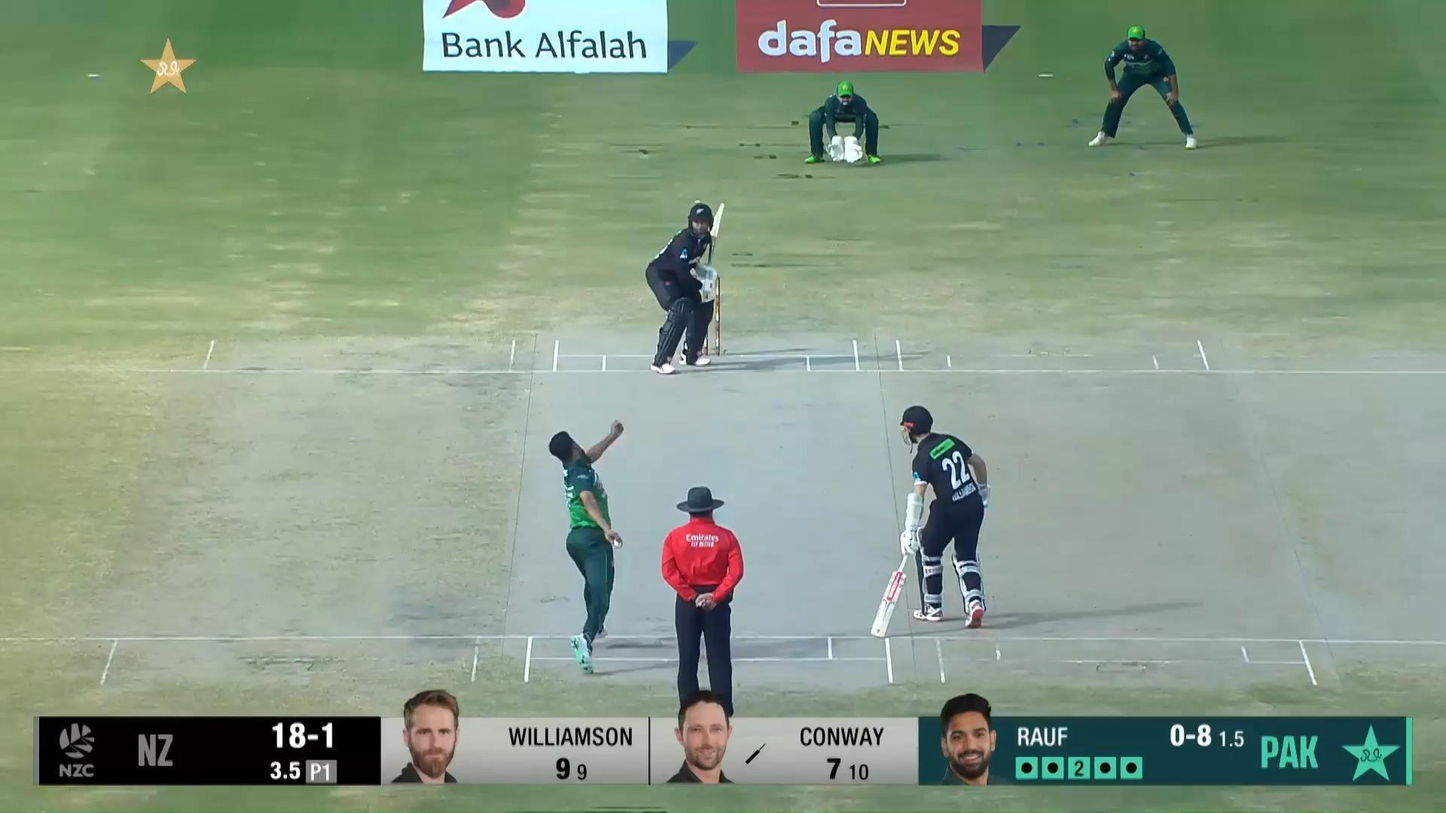BM 1: (645, 202, 725, 374)
BO: (546, 417, 629, 677)
